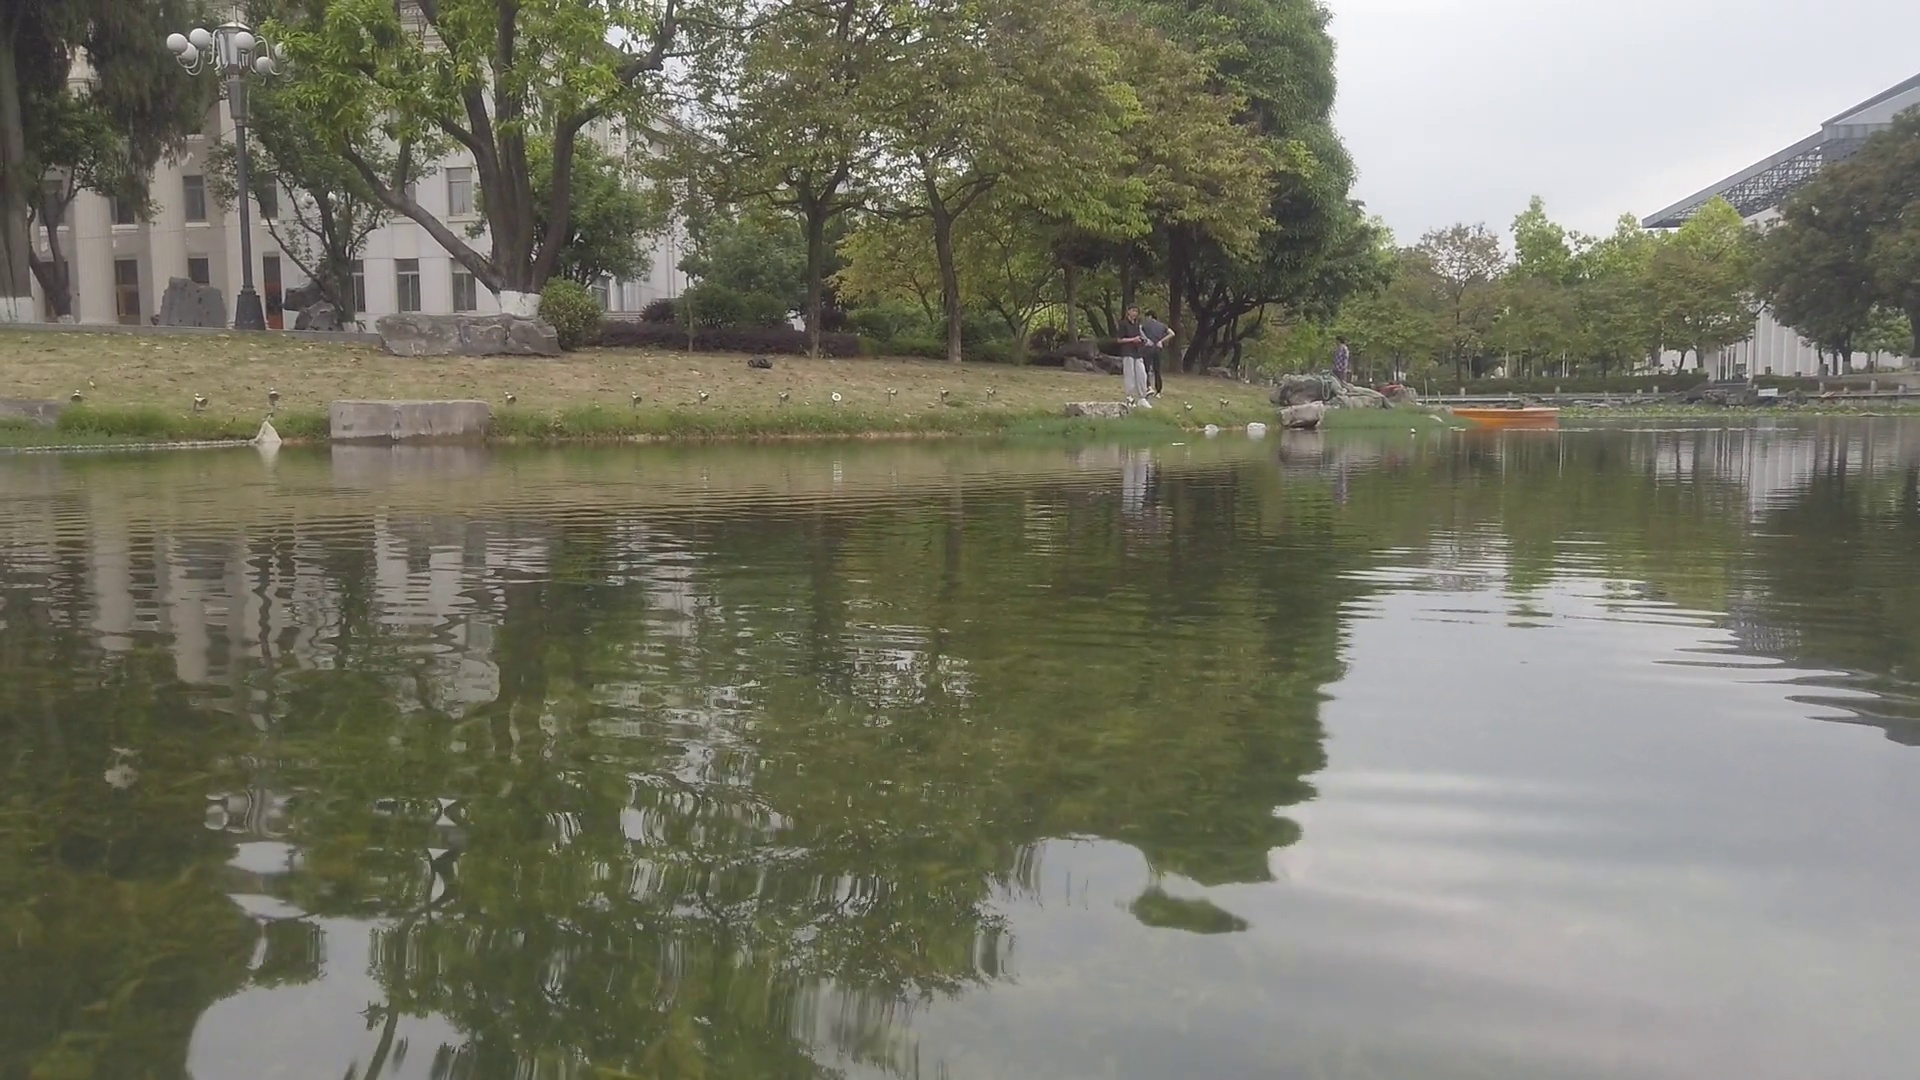bottle: (1411, 426, 1416, 435)
paper: (1171, 438, 1187, 448)
plastic: (1247, 422, 1265, 433), (1204, 425, 1218, 433)
